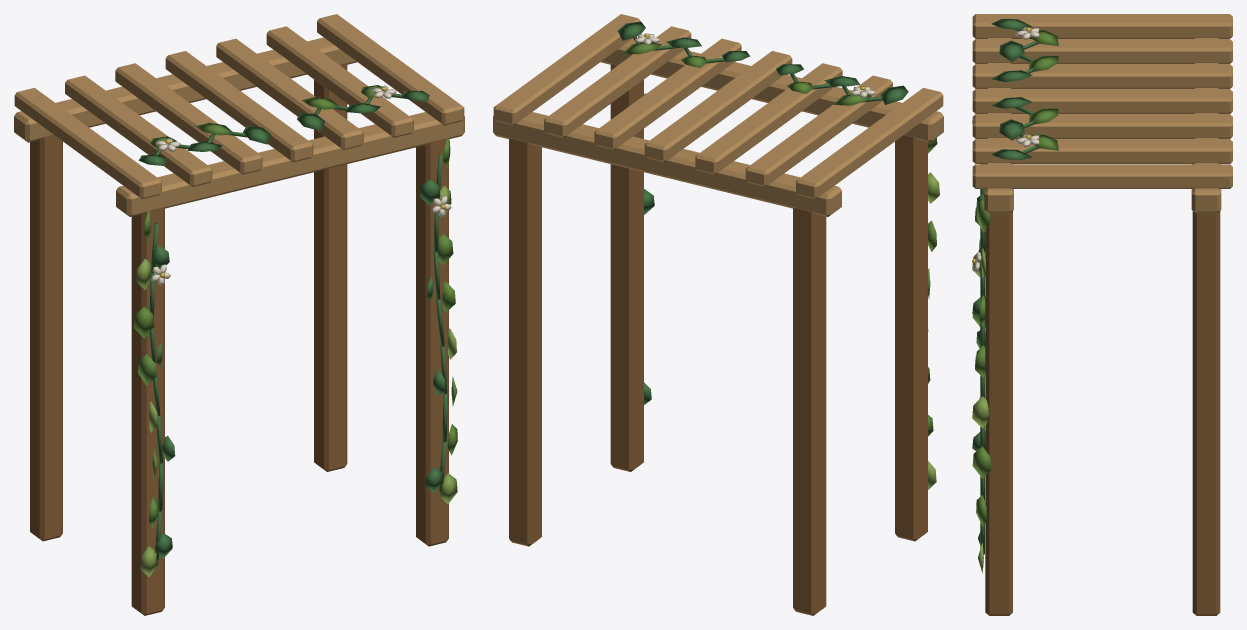
The model's file is deco_pergola.glb.
3 views of the same model, side by side, from view 1: azimuth 30°, elevation 25°; view 2: azimuth 150°, elevation 25°; view 3: azimuth 270°, elevation 25° (orthographic).
Visible parts, largest first — view 1: deco_pergola; view 2: deco_pergola; view 3: deco_pergola.
Boxes of the visible parts, left/top/right/bottom form: deco_pergola: left=14, top=14, right=464, bottom=615; deco_pergola: left=493, top=14, right=943, bottom=615; deco_pergola: left=972, top=14, right=1232, bottom=615.
Size of the model in its own units: 1.88 by 2.4 by 1.23.
